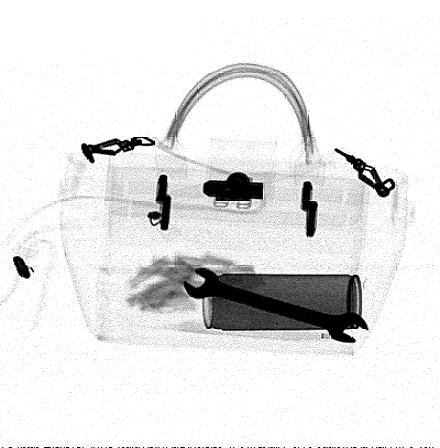Wrench: (183, 268, 370, 343)
